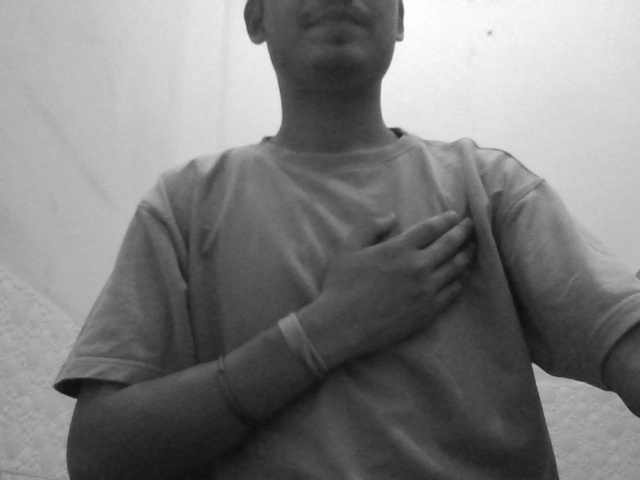Sorry: (304, 194, 562, 418)
